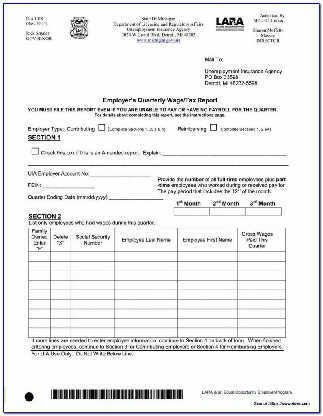checkbox: (97, 123, 106, 132), (30, 146, 39, 155), (209, 123, 218, 131)
textbox: (176, 250, 239, 263), (176, 269, 239, 282), (176, 278, 239, 291), (176, 297, 239, 310), (176, 307, 239, 320), (176, 316, 239, 329), (176, 325, 239, 338), (113, 250, 179, 262), (113, 260, 179, 272), (113, 269, 179, 281), (113, 279, 179, 291), (113, 288, 179, 300), (113, 298, 179, 310), (113, 307, 179, 319), (113, 317, 179, 329), (113, 326, 179, 338), (176, 260, 239, 272), (176, 288, 239, 300), (236, 269, 287, 282), (236, 278, 287, 291), (236, 288, 287, 301), (236, 316, 287, 329), (236, 325, 287, 338), (69, 269, 117, 282), (236, 250, 287, 262), (236, 298, 287, 310), (236, 307, 287, 319), (236, 260, 286, 272), (69, 250, 117, 262), (69, 260, 117, 272), (69, 279, 117, 291), (69, 317, 117, 329), (69, 288, 116, 300), (69, 298, 116, 310), (69, 307, 116, 319), (69, 326, 116, 338), (172, 206, 212, 217), (208, 206, 247, 217), (244, 206, 283, 217), (26, 250, 52, 263), (26, 259, 52, 272), (26, 269, 52, 282), (26, 307, 52, 320), (26, 316, 52, 329), (26, 325, 52, 338), (27, 278, 52, 291), (27, 288, 52, 301), (27, 297, 52, 310), (48, 278, 72, 291), (49, 288, 72, 301), (49, 307, 72, 320), (49, 316, 72, 329), (49, 325, 72, 338), (48, 269, 72, 281), (49, 298, 73, 310), (49, 250, 72, 262), (49, 260, 72, 272)
textline: (26, 157, 292, 167), (161, 147, 290, 157), (89, 168, 151, 177), (107, 193, 166, 202), (41, 180, 95, 188)
